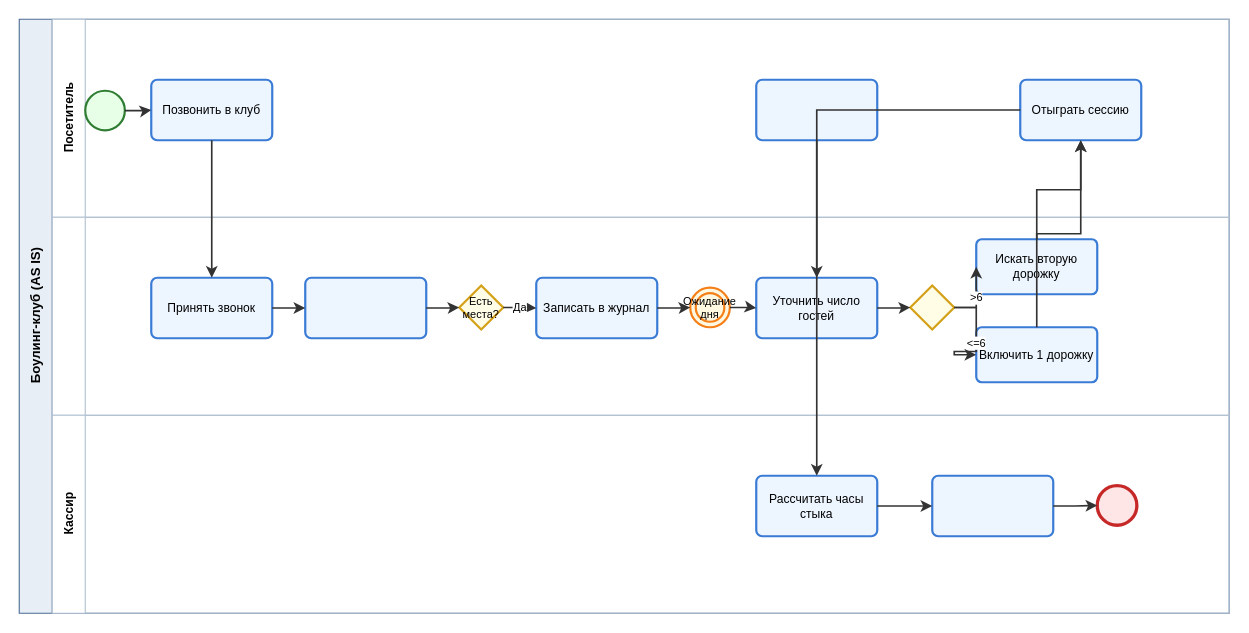
Some shapes in this 1249 by 633 pixel diagram are drawn without their labels. Here are the shapes that lost their labels. From the top down, the box of each, then its label:
(84, 89, 125, 131): Старт
(755, 78, 878, 141): Прибыть в клуб
(304, 276, 427, 339): Проверить журнал
(51, 216, 1229, 415): Оператор зала
(909, 284, 955, 330): > 6 чел?
(931, 474, 1054, 537): Принять оплату
(1095, 483, 1138, 526): Конец
